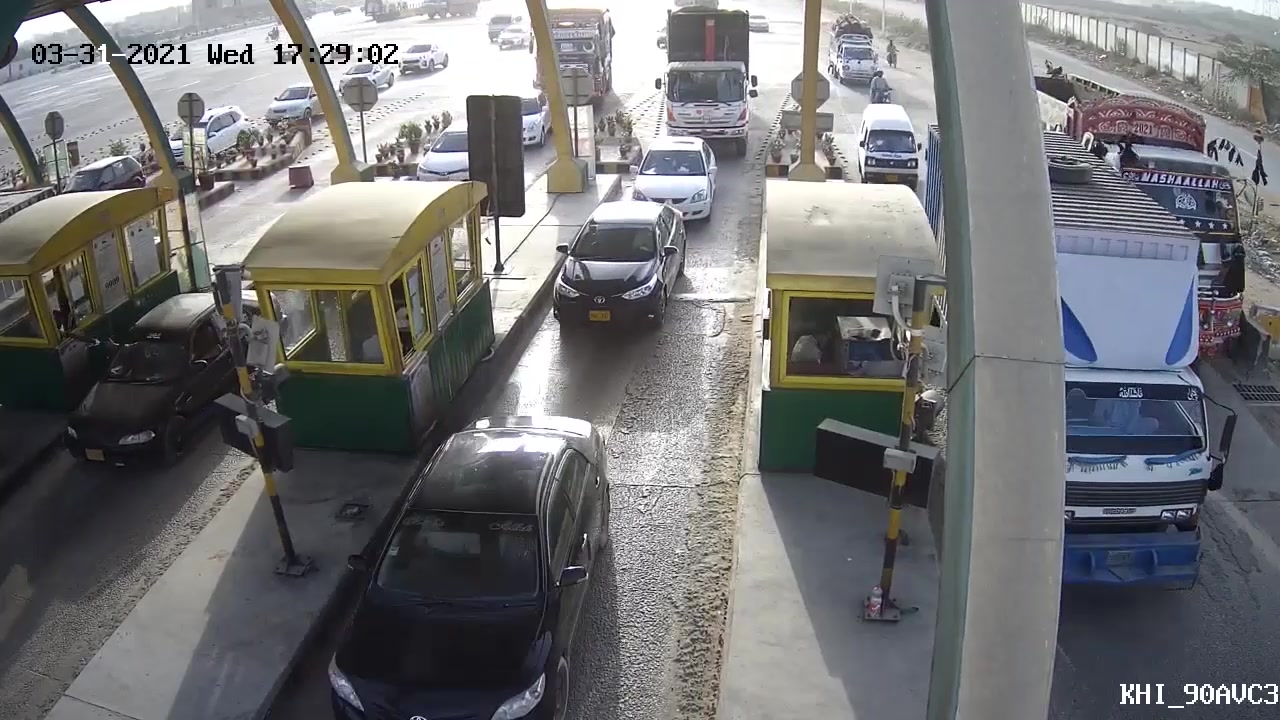F1: (553, 201, 685, 331)
